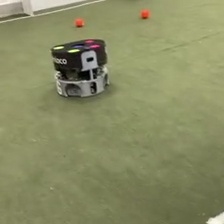ball: (74, 16, 84, 27), (139, 8, 149, 18)
robot: (49, 37, 112, 99)
